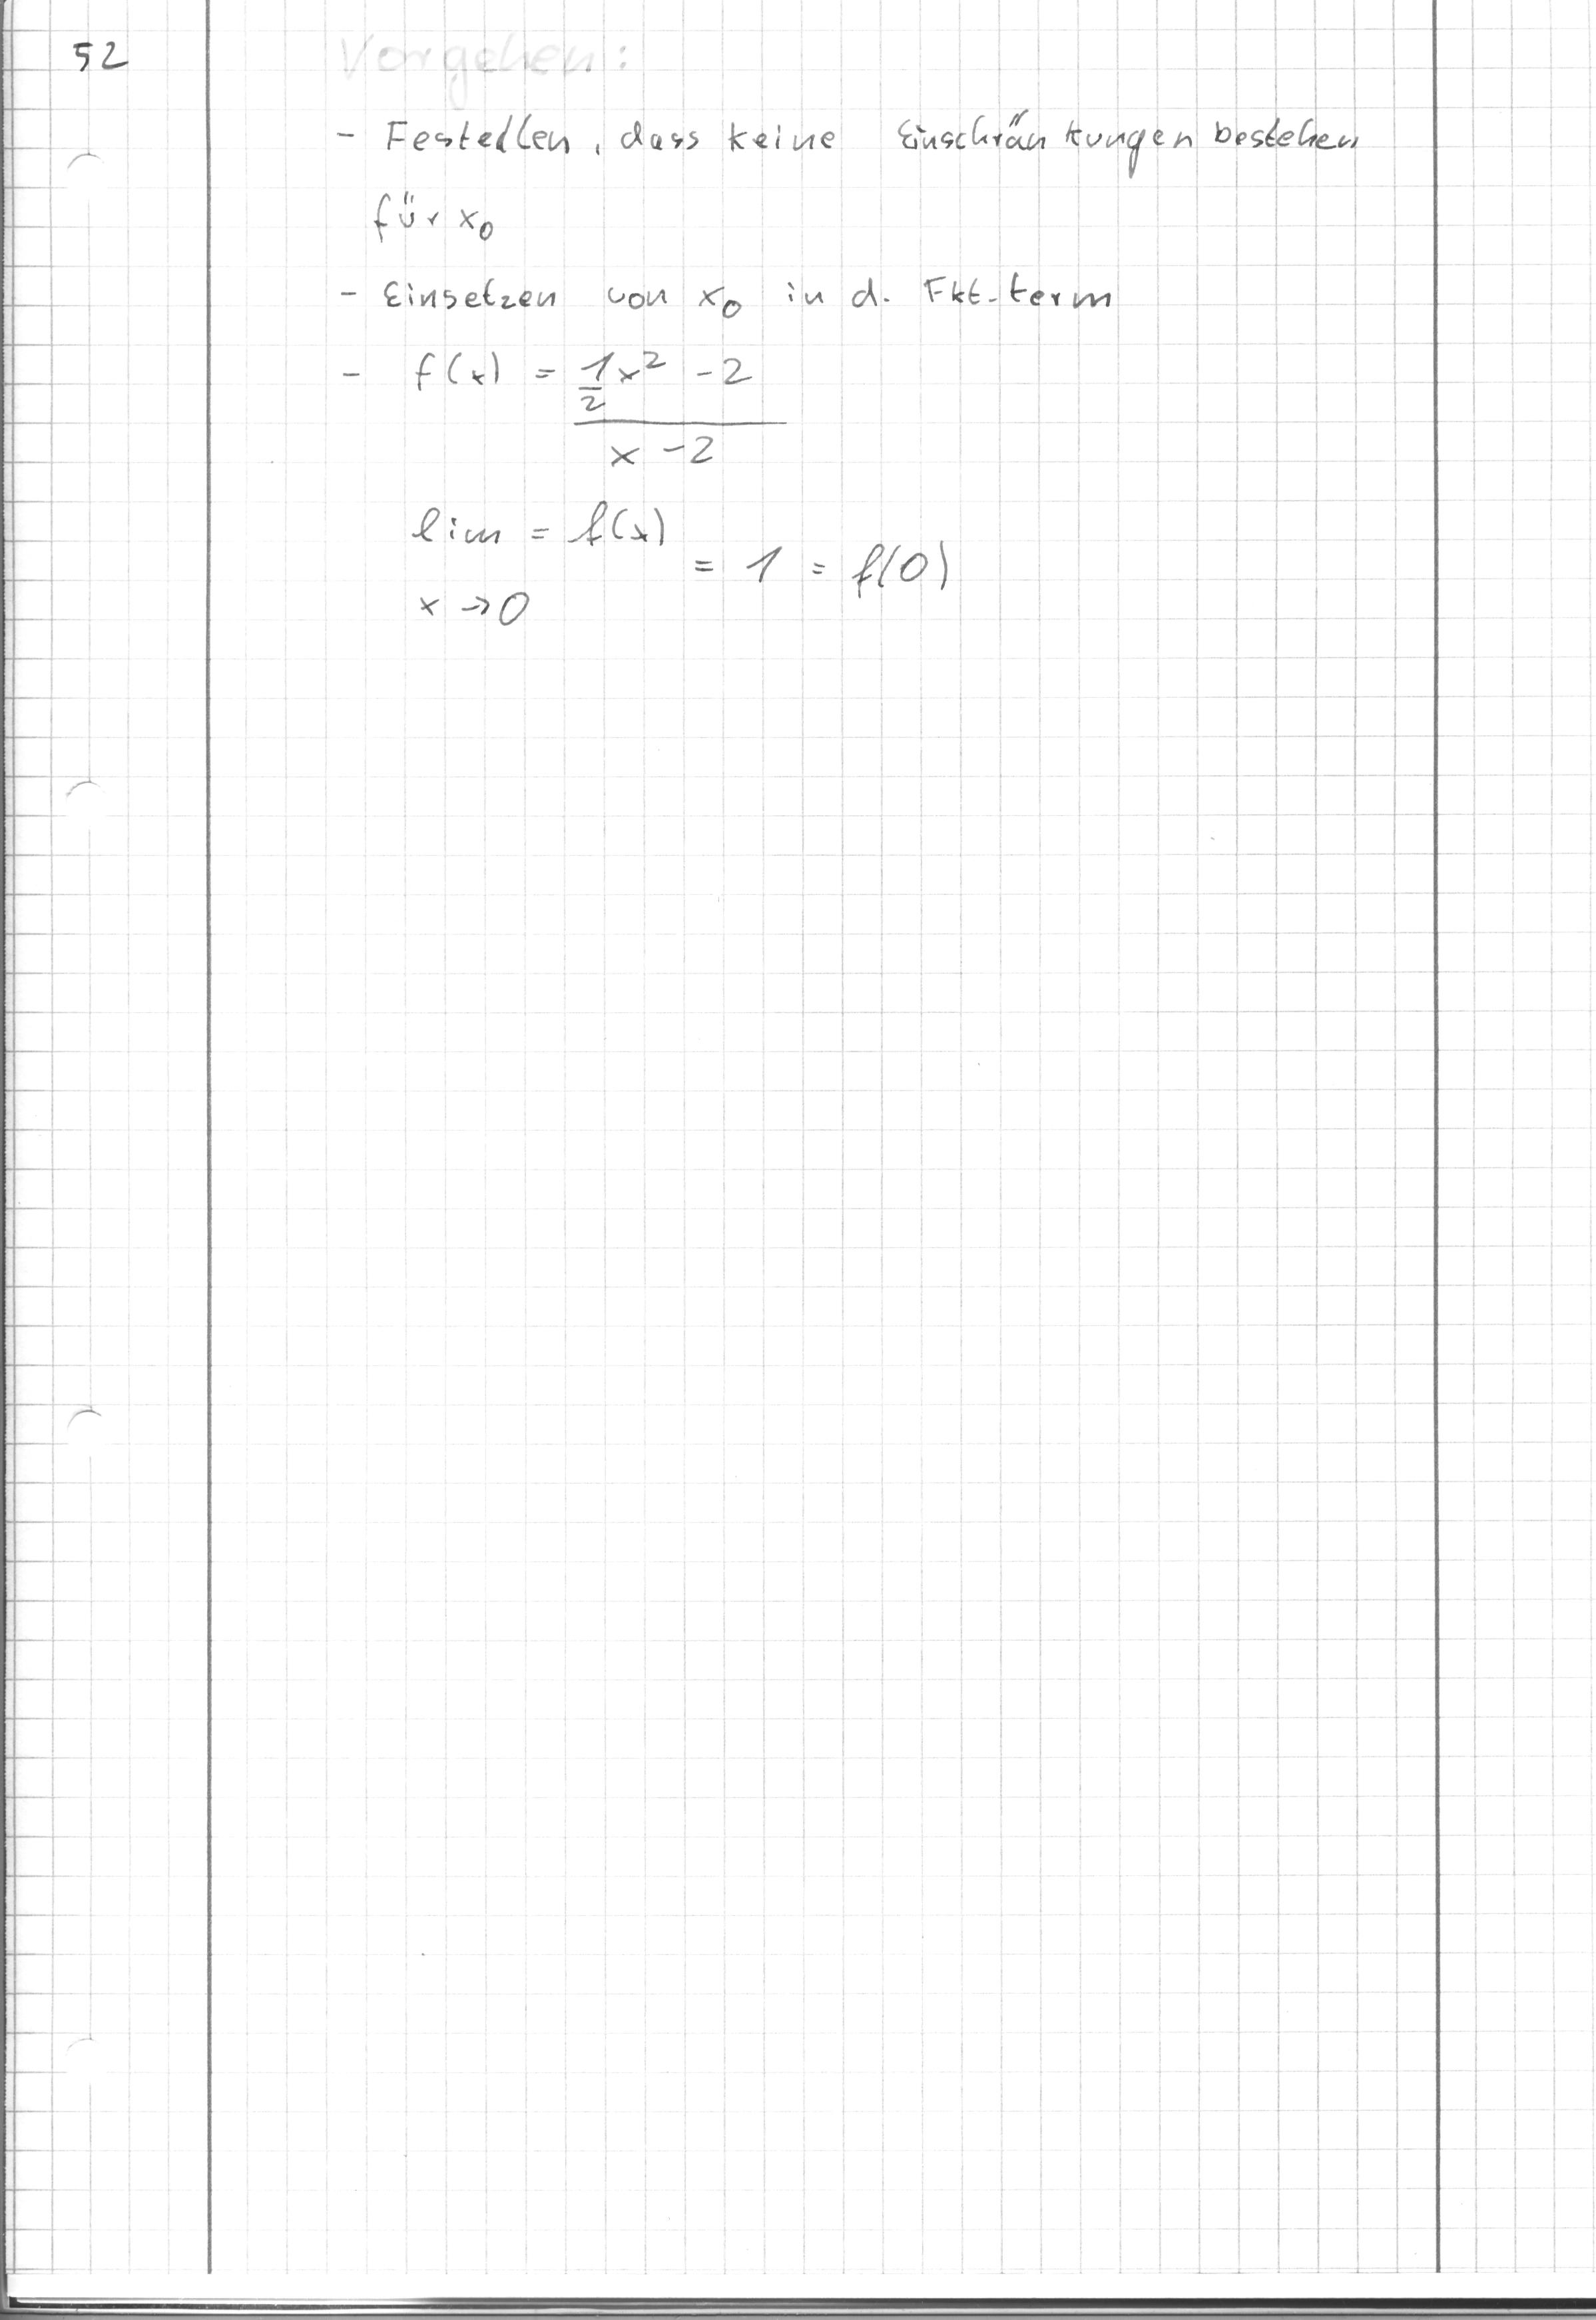word: (329, 105, 1369, 252), (405, 491, 965, 645), (336, 342, 810, 490), (324, 268, 1132, 332)
